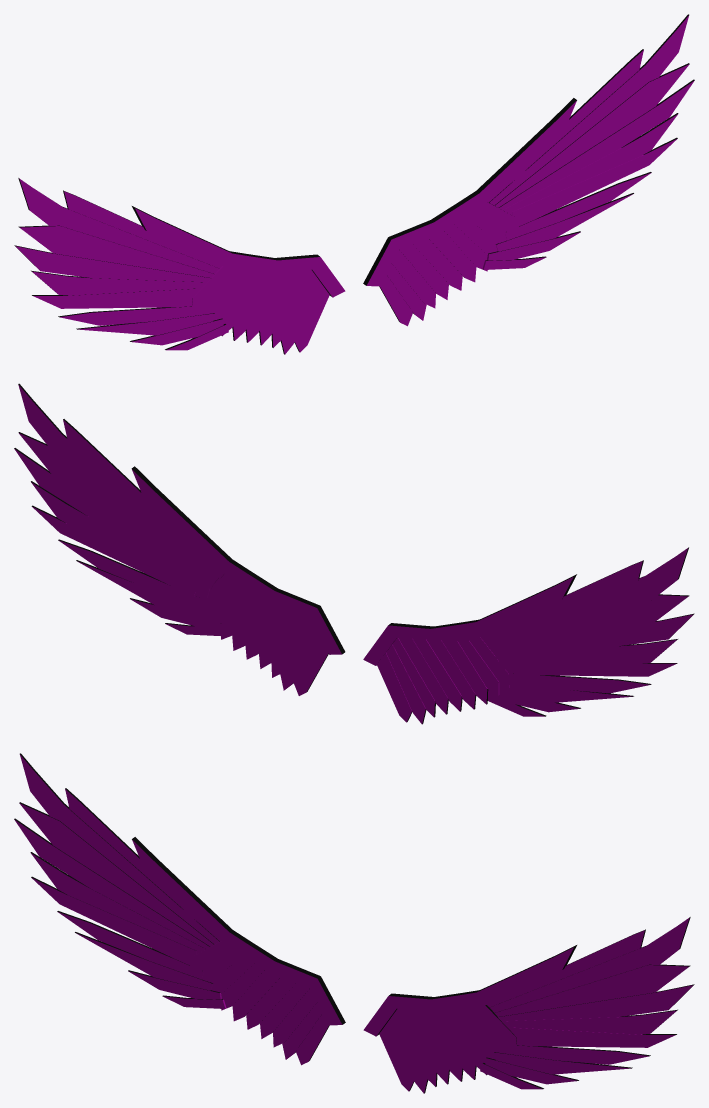
File: EuphoriaWingsTrim.fbx
3 renders of one model, top to bottom at view 1: azimuth 30°, elevation 25°; view 2: azimuth 150°, elevation 25°; view 3: azimuth 330°, elevation 25°, orthographic.
Parts seen in each view (by area): view 1: Cube.015; view 2: Cube.015; view 3: Cube.015.
Boxes of the visible parts, <box> form: Cube.015: <box>14,14,694,354</box>; Cube.015: <box>14,383,694,724</box>; Cube.015: <box>14,753,694,1093</box>.
Size of the model in its own units: 66.61 by 22.77 by 0.618.
